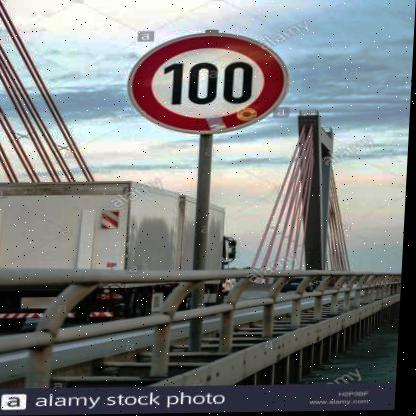Speed Limit -100-: (124, 28, 294, 137)
